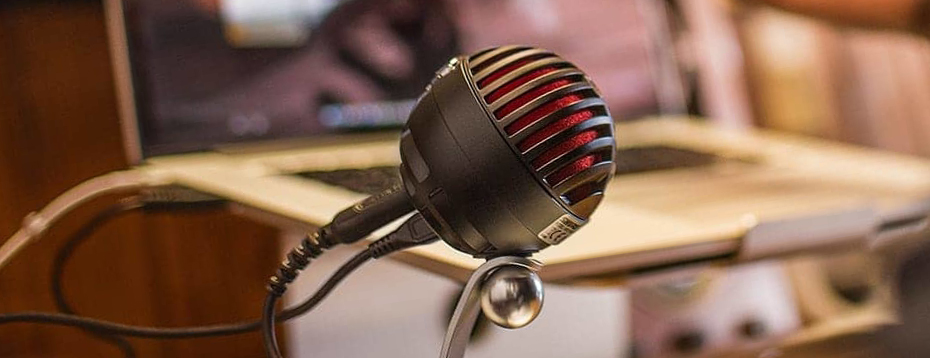microphone: (330, 42, 618, 260)
